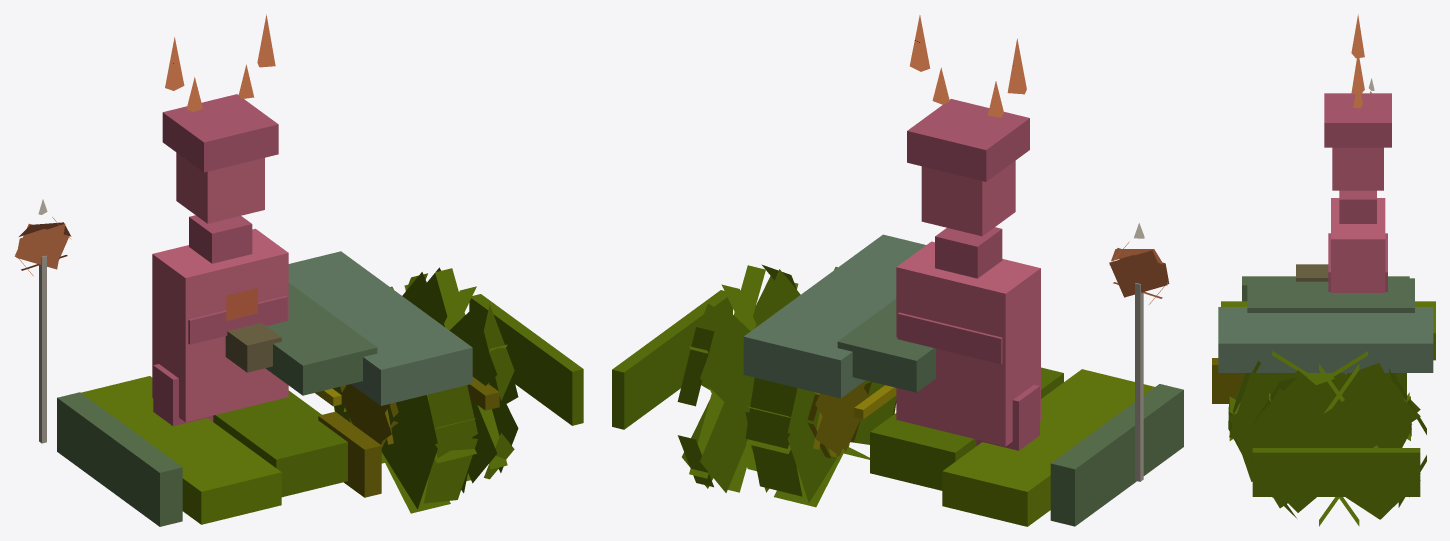
File: takeda-07.glb
3 views of the same model, side by side, from view 1: azimuth 30°, elevation 25°; view 2: azimuth 150°, elevation 25°; view 3: azimuth 270°, elevation 25° (orthographic). The views are drawn at different scales.
Parts seen in each view (by area): view 1: samurai; view 2: samurai; view 3: samurai.
Boxes of the visible parts, x1,y1,x2,y2 form: samurai: (14,14,583,526); samurai: (612,15,1183,526); samurai: (1212,14,1435,526).
Bounding box in the file's own units: 1.73 × 1.64 × 0.8275.
